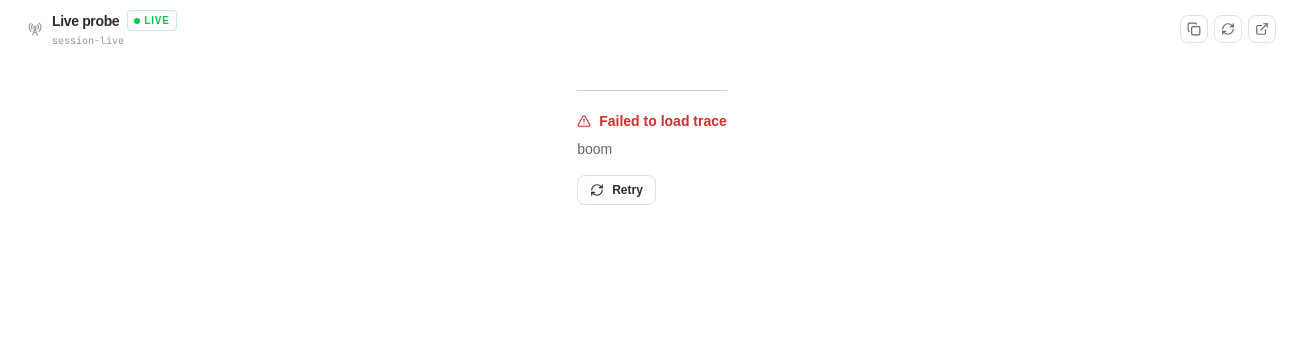
Test: TraceSession › shows the error state with retry when the trace load fails
Expected: the text "Failed to load trace" is shown, [577,111,727,131]
Expected: the text "boom" is shown, [577,141,612,157]
Step 1. Click the button "Retry" → point(617, 190), box [577,175,656,205]
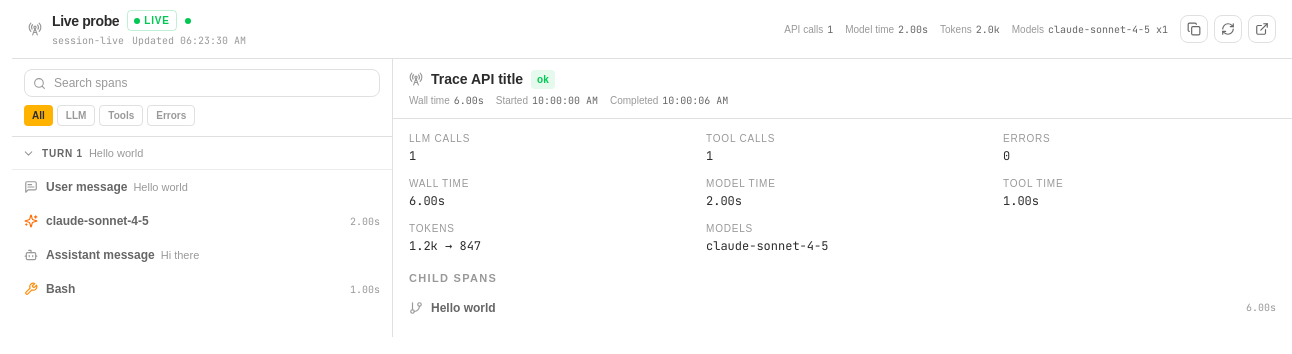
Result: the element with test id "trace-split-layout" is shown
